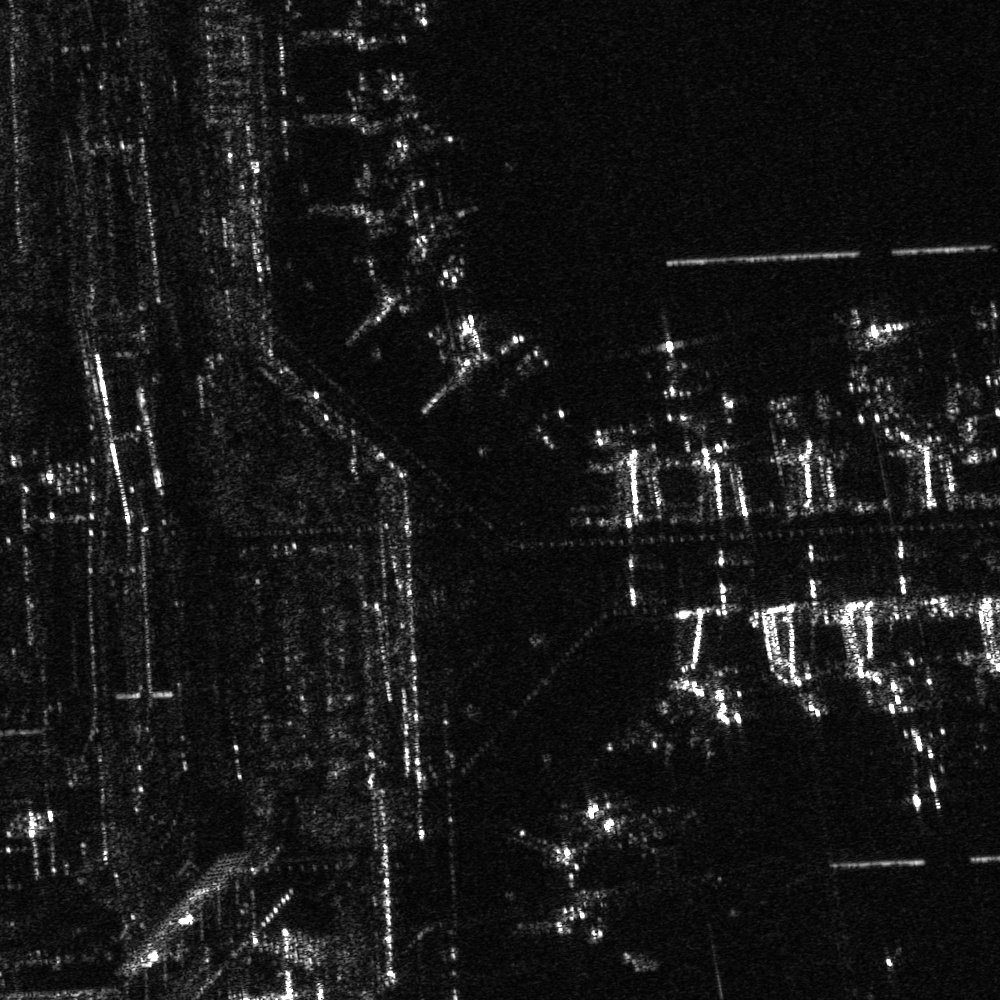A220: (651, 325, 720, 404)
A320/321: (833, 310, 888, 400), (969, 296, 999, 386)
Boeing787: (877, 721, 962, 816)
